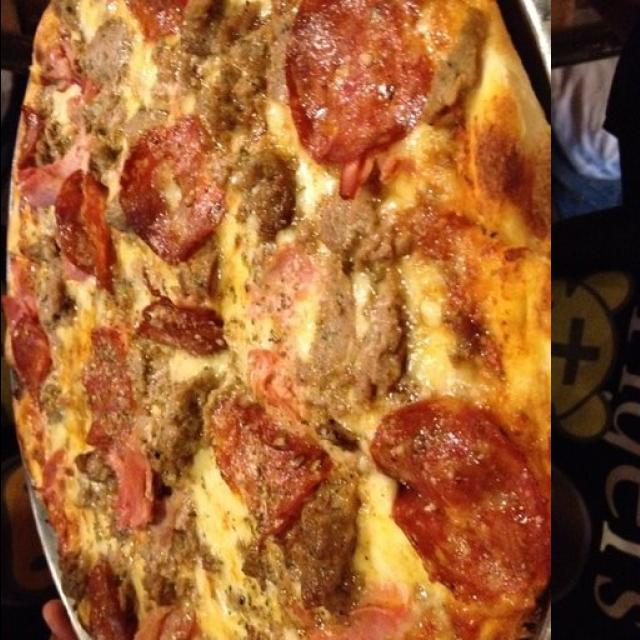pepperoni: (0, 401, 179, 601), (118, 0, 265, 162), (226, 391, 338, 536), (321, 120, 433, 263), (442, 172, 497, 292), (498, 311, 541, 405), (421, 570, 462, 640), (366, 0, 424, 43)
pizza: (0, 0, 550, 640)
